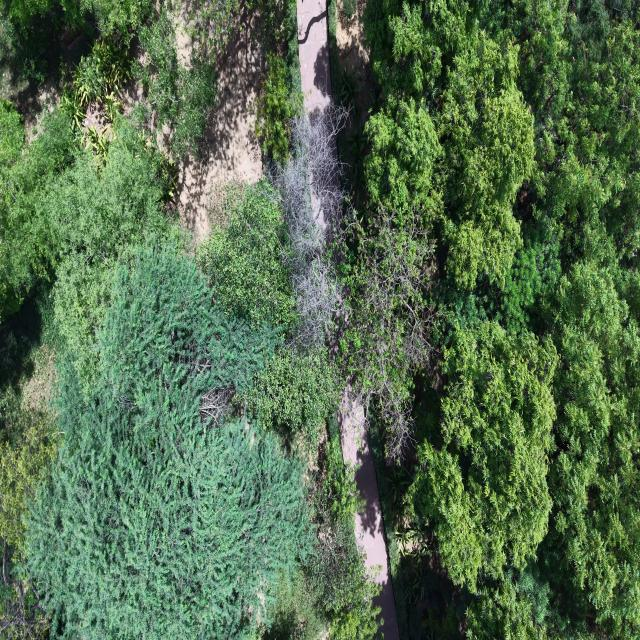DRY_AREA: (177, 6, 263, 241), (178, 9, 262, 241), (339, 390, 399, 639), (339, 391, 399, 639), (340, 395, 399, 639), (0, 24, 61, 142), (336, 0, 372, 136), (297, 0, 331, 112)
VEGETATION_TREE: (0, 0, 639, 639), (0, 36, 378, 639), (3, 121, 377, 638), (343, 0, 639, 638), (27, 245, 313, 637), (0, 111, 170, 636), (0, 111, 169, 387), (407, 321, 556, 591), (3, 0, 237, 159), (41, 122, 170, 388), (265, 421, 380, 639), (339, 208, 434, 457), (0, 299, 59, 637), (272, 107, 345, 349), (0, 112, 76, 318), (312, 422, 380, 639), (198, 182, 294, 327), (136, 6, 216, 156), (249, 348, 338, 441), (255, 0, 303, 164), (61, 39, 131, 133), (0, 7, 65, 98), (256, 54, 301, 163), (0, 101, 24, 181)
